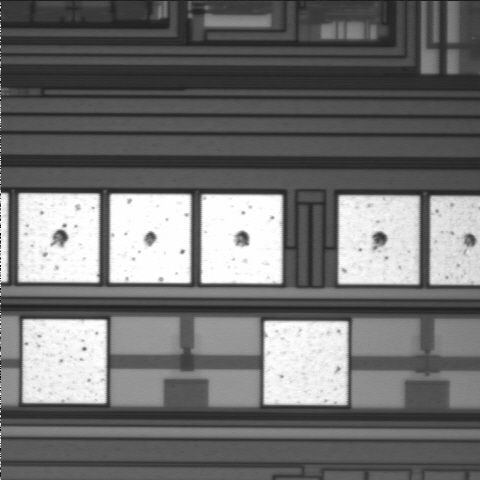pad: (18, 193, 100, 283), (201, 194, 282, 284), (110, 194, 191, 283), (338, 195, 419, 284), (23, 319, 107, 403), (264, 321, 348, 405)
